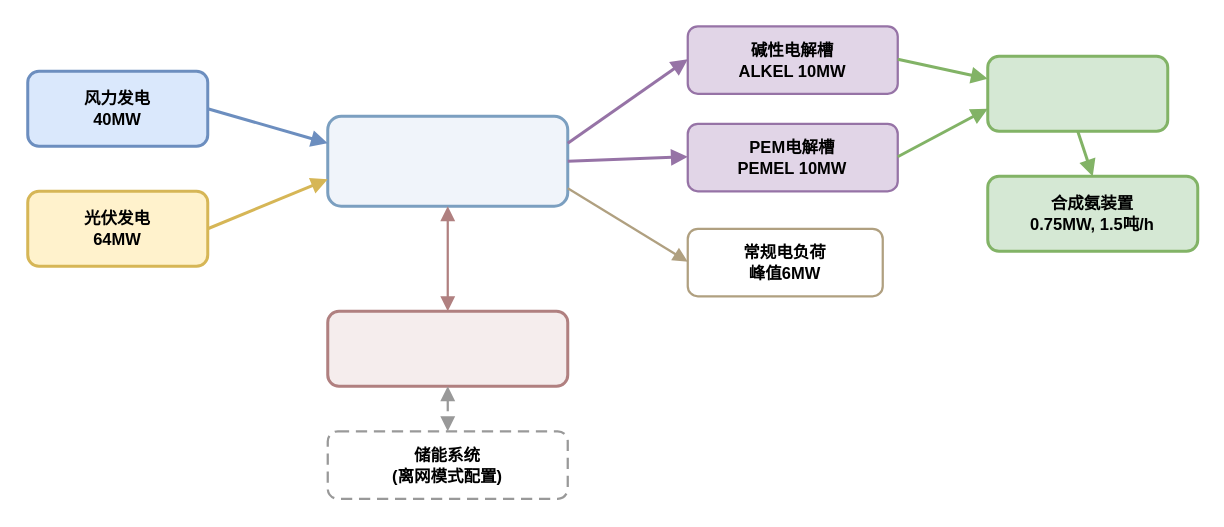
Image size: 1224x527. Some labels were removed from this diagram. The shapes that lost their labels are listed below. From the top down, each one's centre as x and y in pixels, then its label:
point 1077,93: 氢气 H2 中间产物
point 447,160: 园区电力母线
point 447,348: 外部电网 购电/售电
